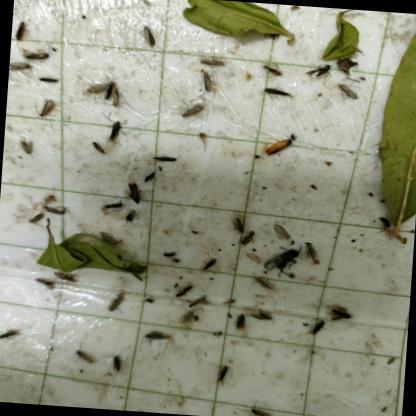prays_oleae: (70, 338, 106, 378), (263, 126, 297, 163), (138, 17, 164, 59), (30, 92, 58, 128), (142, 320, 171, 350), (246, 305, 277, 332), (196, 250, 220, 284), (262, 80, 292, 107), (104, 281, 127, 315), (306, 62, 331, 93), (126, 174, 146, 210), (266, 219, 294, 244), (0, 319, 21, 352), (179, 102, 206, 127), (15, 132, 38, 161), (301, 237, 320, 272), (27, 42, 52, 68), (306, 312, 326, 344), (245, 395, 275, 416), (328, 298, 352, 324), (41, 196, 66, 220), (34, 269, 52, 302), (196, 65, 214, 97), (238, 227, 257, 256), (214, 356, 230, 390), (150, 148, 178, 167), (16, 12, 30, 49), (89, 136, 104, 170), (9, 54, 33, 74), (105, 194, 125, 218), (188, 288, 210, 309), (37, 72, 62, 90), (111, 345, 125, 377), (26, 209, 46, 231), (56, 270, 80, 286), (98, 78, 114, 101), (233, 310, 246, 338), (122, 211, 140, 230), (109, 87, 121, 113), (230, 214, 244, 236), (110, 120, 120, 148), (176, 282, 190, 302), (143, 168, 159, 184)
